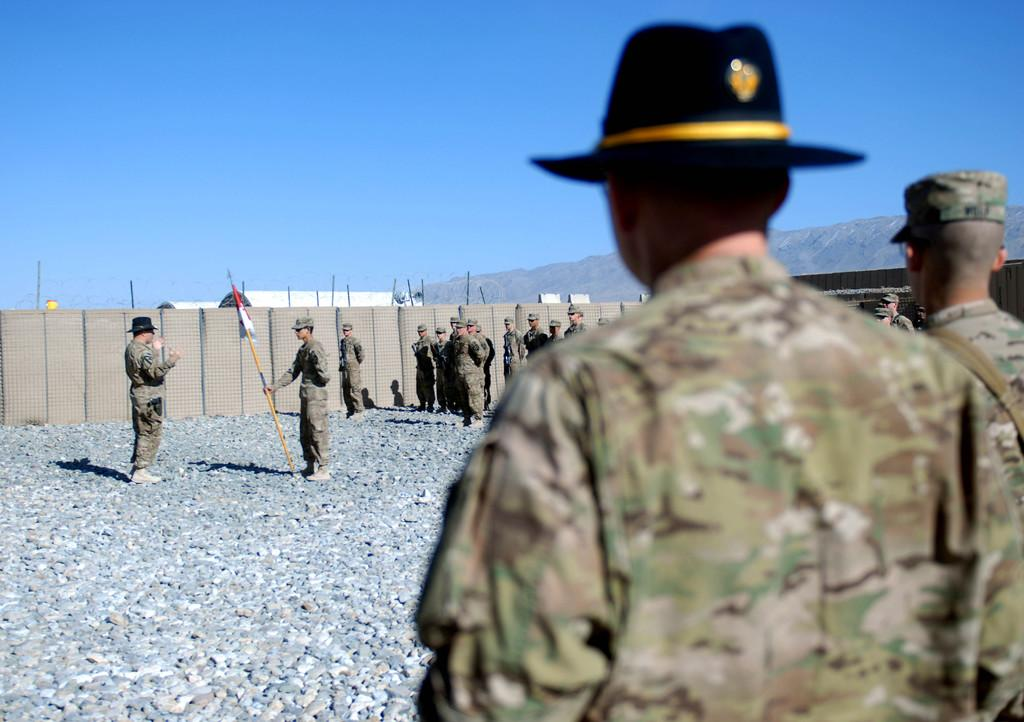Hat: (528, 21, 869, 187), (888, 166, 1010, 243), (124, 314, 158, 334), (294, 315, 314, 331), (338, 319, 352, 331), (414, 322, 426, 332), (544, 318, 562, 324), (567, 304, 580, 312), (526, 312, 538, 320), (595, 315, 605, 323), (465, 319, 476, 325), (498, 318, 508, 324), (456, 320, 465, 326), (434, 329, 444, 332), (450, 315, 454, 321)
